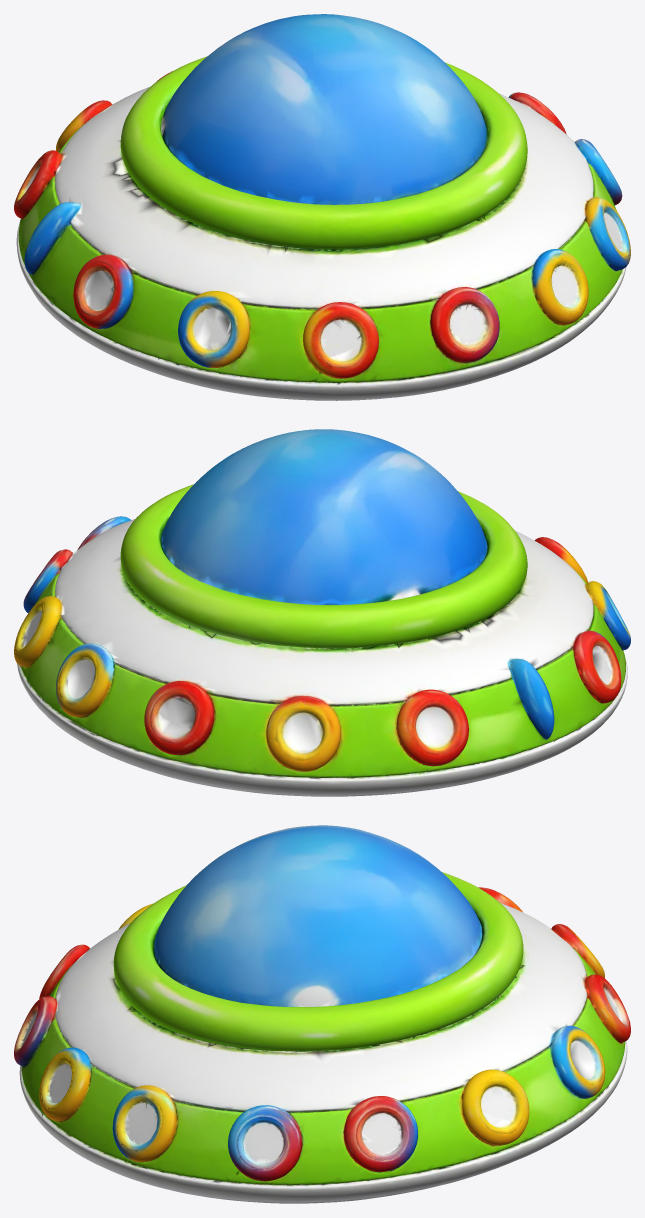
Rendered from ovni2-3d.glb.
The picture shows the model from 3 angles, top to bottom: view 1: azimuth 30°, elevation 25°; view 2: azimuth 150°, elevation 25°; view 3: azimuth 270°, elevation 25°; orthographic projection.
Parts seen in each view (by area): view 1: tripo_node_9f97f931-c95b-4a3e-86b4-7085fbfda107; view 2: tripo_node_9f97f931-c95b-4a3e-86b4-7085fbfda107; view 3: tripo_node_9f97f931-c95b-4a3e-86b4-7085fbfda107.
Boxes of the visible parts, <box> form: tripo_node_9f97f931-c95b-4a3e-86b4-7085fbfda107: <box>14,14,630,400</box>; tripo_node_9f97f931-c95b-4a3e-86b4-7085fbfda107: <box>14,429,630,796</box>; tripo_node_9f97f931-c95b-4a3e-86b4-7085fbfda107: <box>14,825,630,1203</box>.
Size of the model in its own units: 0.9776 by 0.4923 by 0.9796.
1 material, 1 textured.
